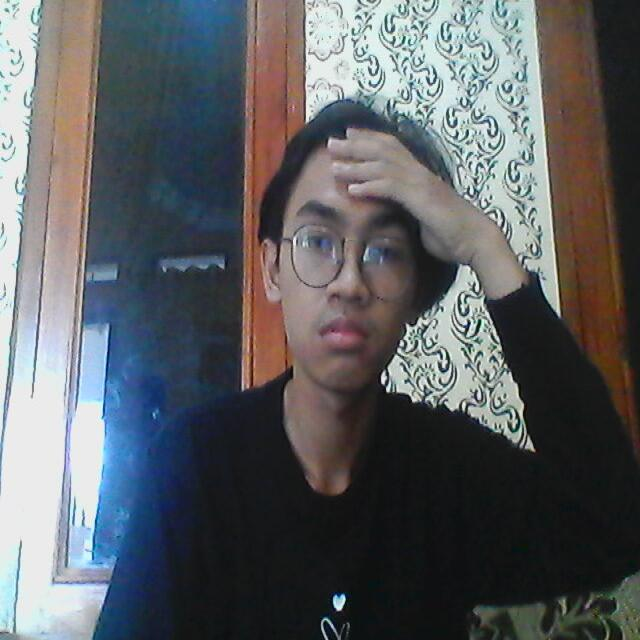eye: (298, 232, 336, 260), (368, 239, 402, 268)
gaze: (310, 237, 322, 250), (379, 246, 388, 257)
